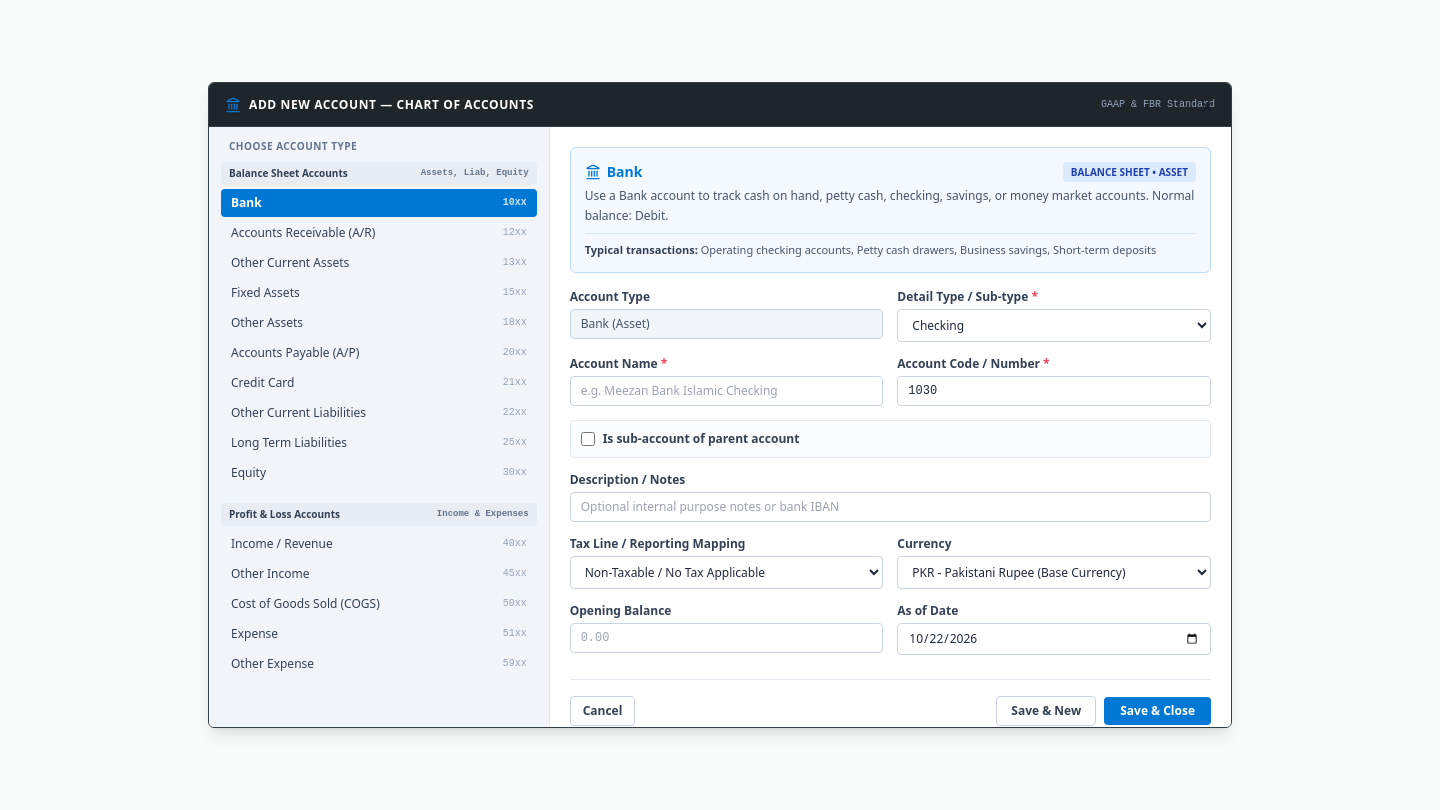
Test: Add Account Dialog (Two-Panel Interface) › validates required fields before submitting
Click the button "Save & Close" at (1158,711), box [1104,697,1211,725]
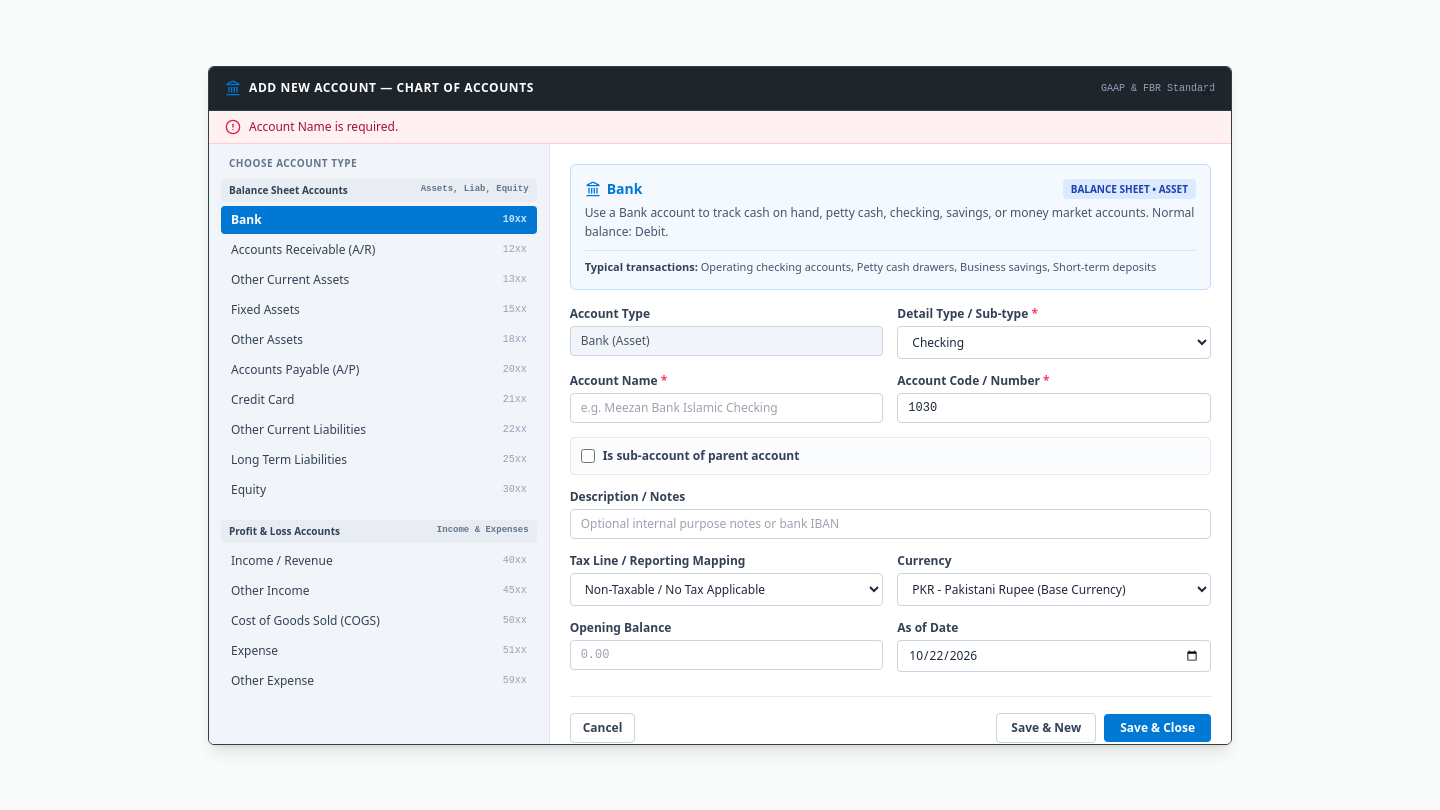
Now the text "Account Name is required." is shown, box [249,118,398,134]
